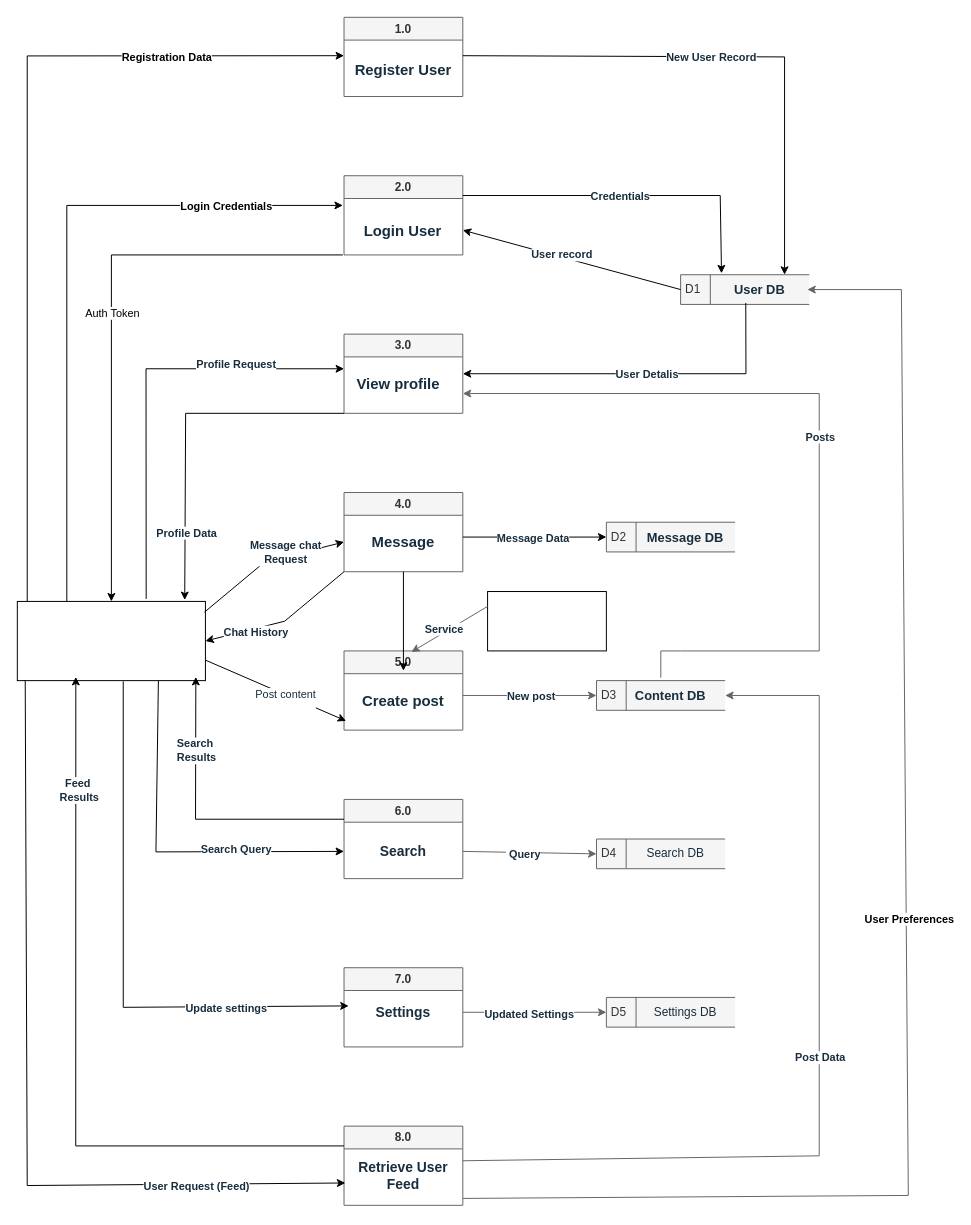
This 971x1225 diagram has some shape labels left out. The centre of each missing label's shape, as x and y in pixels:
"Ai assistance" belongs at [546,621].
"User" belongs at [110,640].
